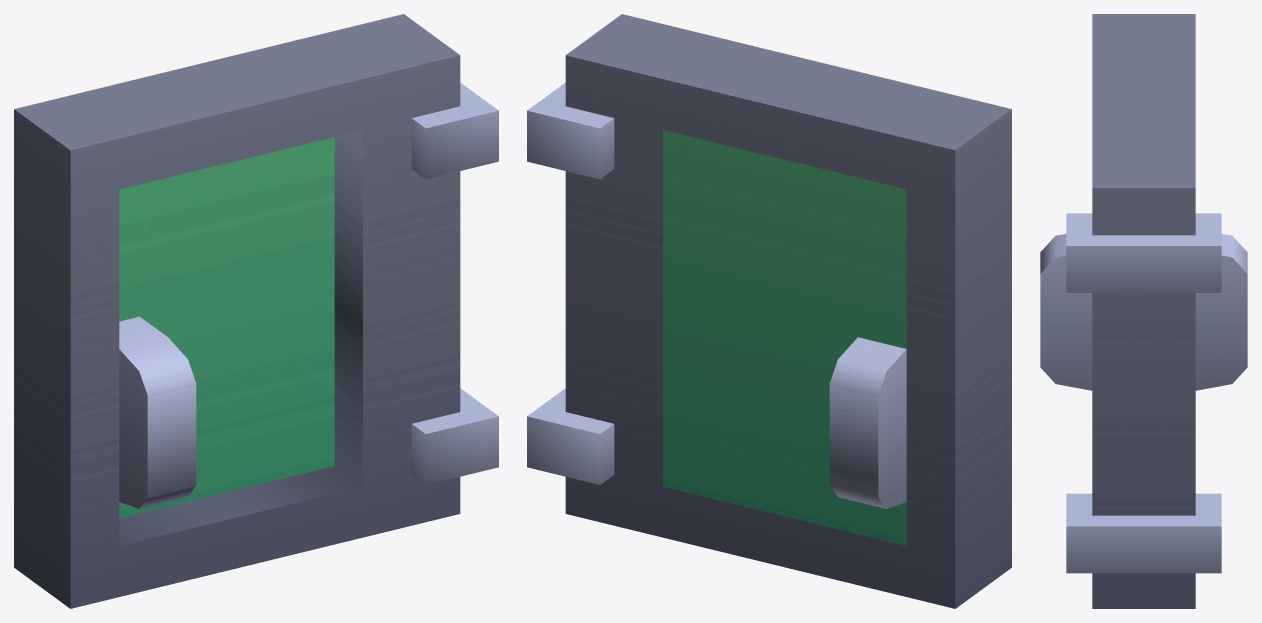
File: door-right.001_lev2.glb
3 views of the same model, side by side, from view 1: azimuth 30°, elevation 25°; view 2: azimuth 150°, elevation 25°; view 3: azimuth 270°, elevation 25° (orthographic). The views are drawn at different scales.
Parts seen in each view (by area): view 1: door-right.001_lev2; view 2: door-right.001_lev2; view 3: door-right.001_lev2.
Boxes of the visible parts, x1,y1,x2,y2 form: door-right.001_lev2: [14, 14, 498, 608]; door-right.001_lev2: [527, 14, 1011, 608]; door-right.001_lev2: [1040, 14, 1247, 608].
Bounding box in the file's own units: 3.42 × 3.61 × 1.61.
Materials: 1 (1 with a texture image).
